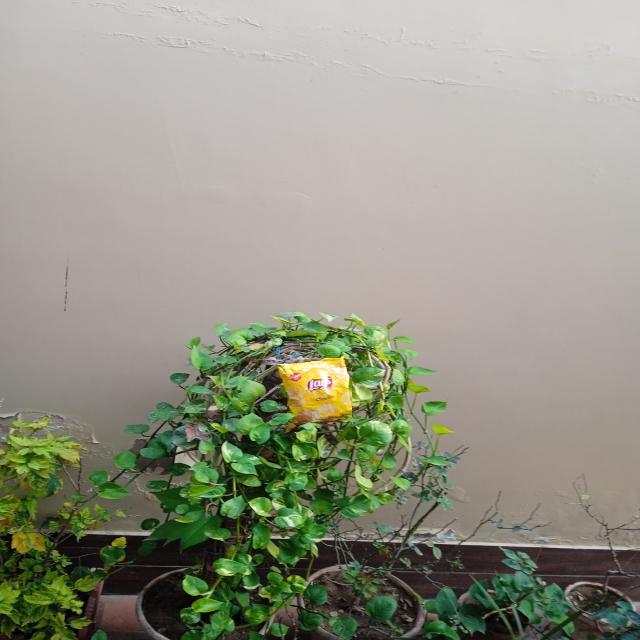Plastic: (276, 358, 352, 424)
